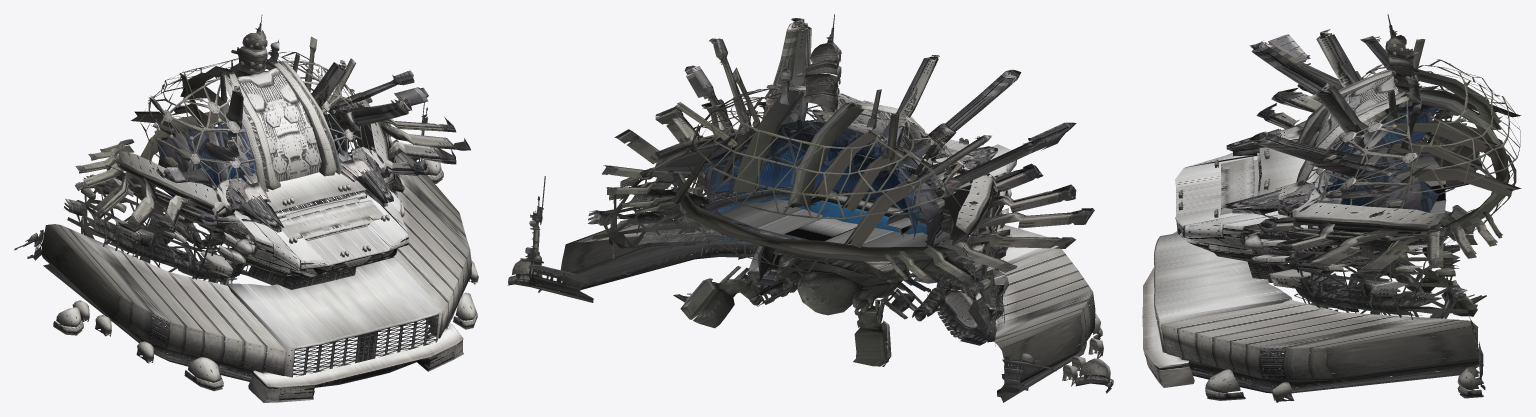
File: ebg001_hsta.glb
The picture shows the model from 3 angles, left to right: view 1: azimuth 30°, elevation 25°; view 2: azimuth 150°, elevation 25°; view 3: azimuth 270°, elevation 25°; orthographic projection. The views are drawn at different scales.
Visible parts, largest first — view 1: ebg001_hsta; view 2: ebg001_hsta; view 3: ebg001_hsta.
Part boxes in pixels (x1,y1,x2,y2): ebg001_hsta: (14, 14, 478, 402); ebg001_hsta: (508, 14, 1113, 402); ebg001_hsta: (1142, 14, 1521, 402).
Bounding box in the file's own units: 52.83 × 33.96 × 36.18.
28 materials, 28 textured.
